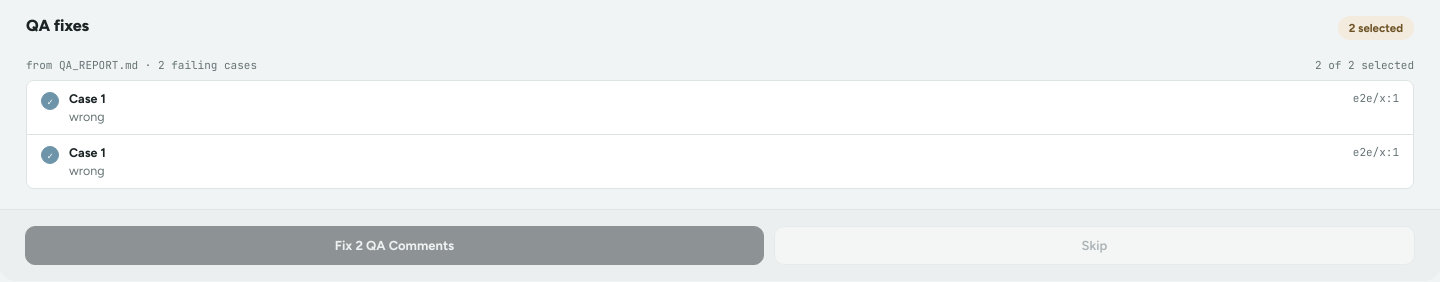
Test: QA-fixes stage › the failing cases are a triage checklist on /qa-triage, and Fix counts the selection
Check: the button with test id "l2-cta" reads "Fix 2 QA Comments", box top-left (25, 226), bottom-right (764, 265)
Step 1. Click the 1st checkbox with test id "triage-checkbox" → (50, 101), box top-left (41, 92), bottom-right (59, 110)
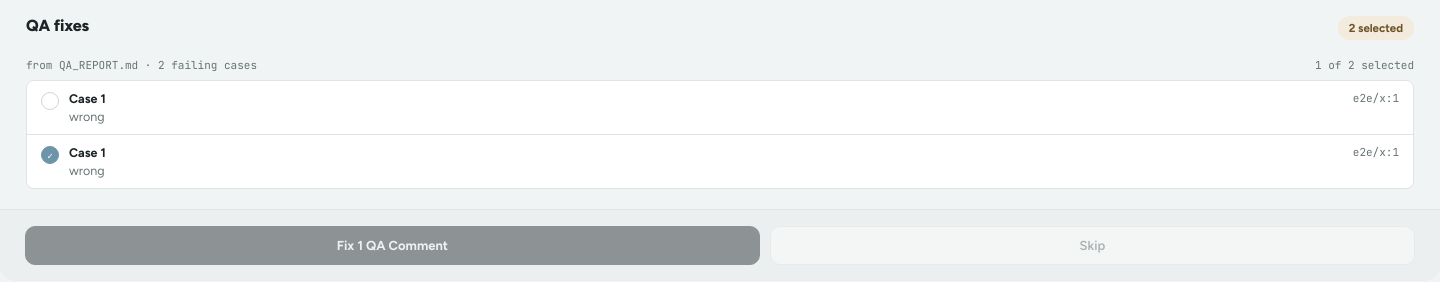
Check: the button with test id "l2-cta" reads "Fix 1 QA Comment", box top-left (25, 226), bottom-right (760, 265)
